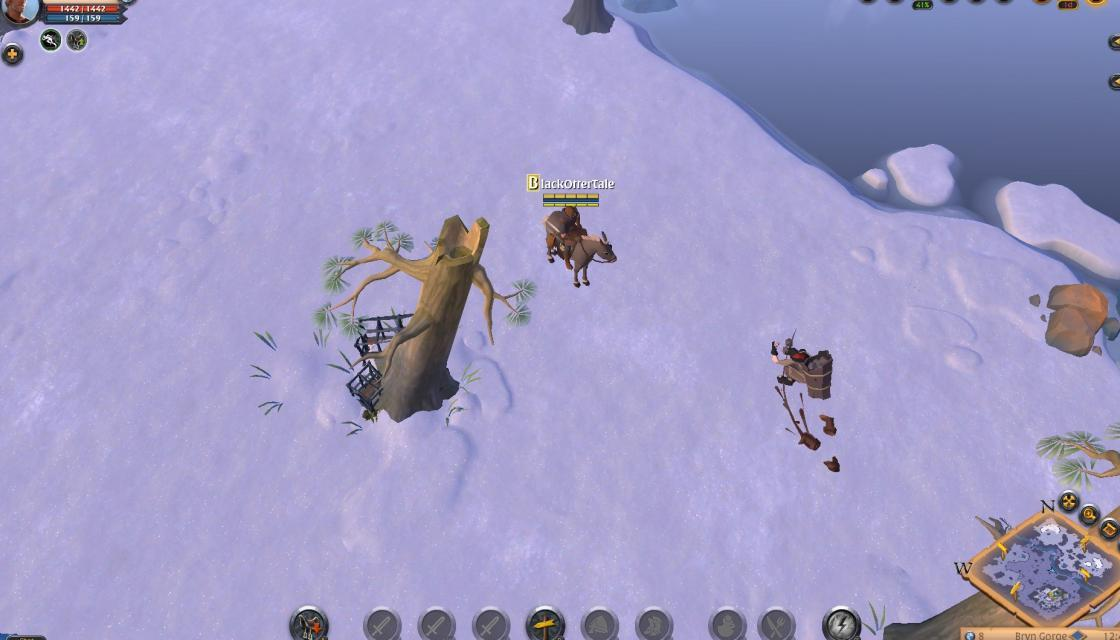limestone: (1039, 274, 1120, 358)
